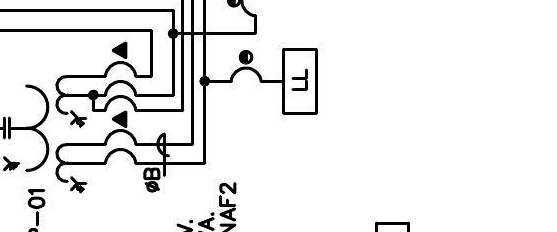115_cvt_3p: (3, 74, 88, 194)
LL: (282, 48, 318, 115)
